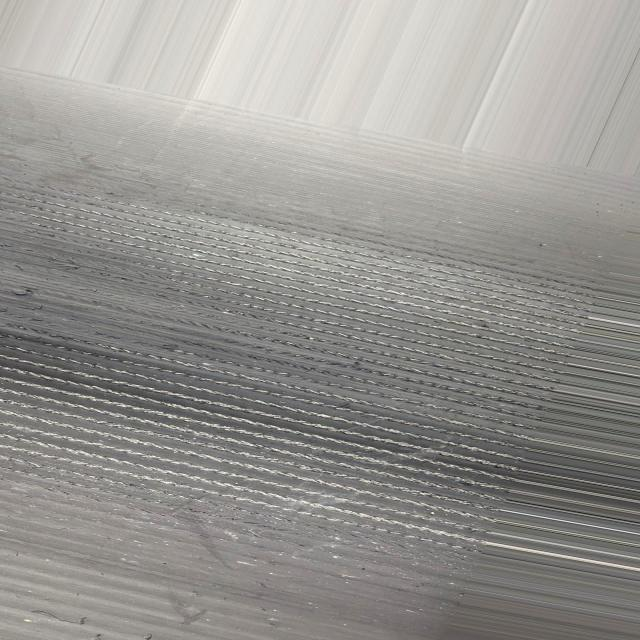Wear: (1, 188, 635, 571)
